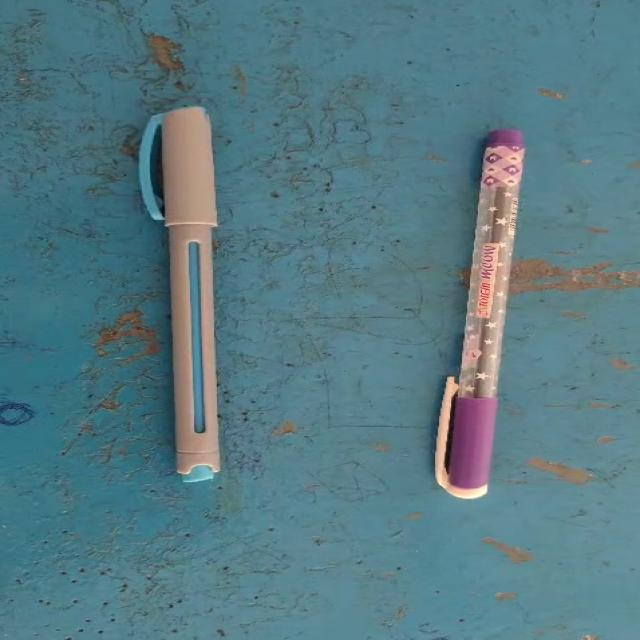pen: (68, 68, 312, 518), (399, 103, 566, 531)
